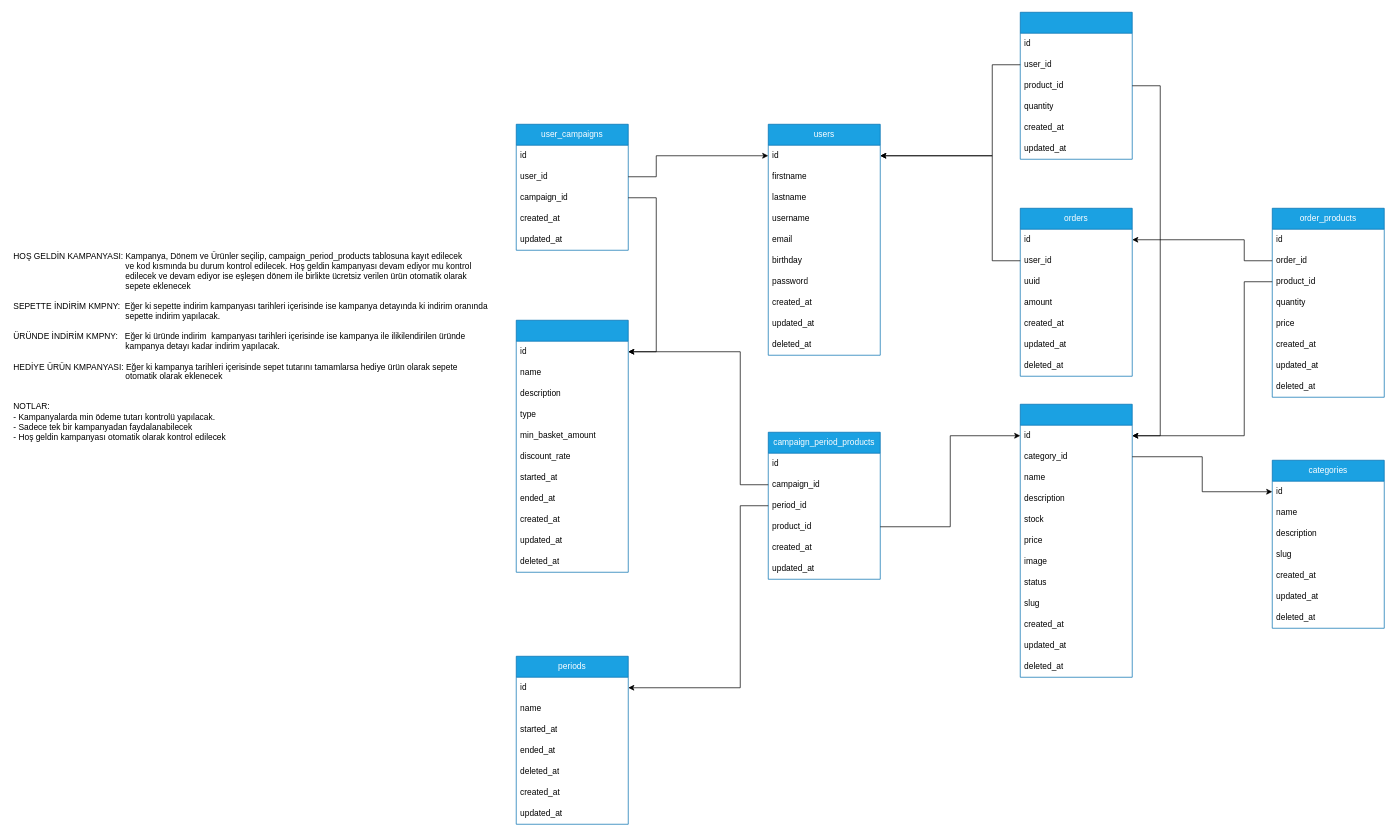
Image size: 1397x837. Some labels were removed from this diagram. The shapes that lost their labels are listed below. From the top down, each one's box as (x1, y1, x2, y2) in pixels, then its label:
(1020, 12, 1132, 159): basket_products
(516, 320, 628, 572): campaigns
(1020, 404, 1132, 677): products
